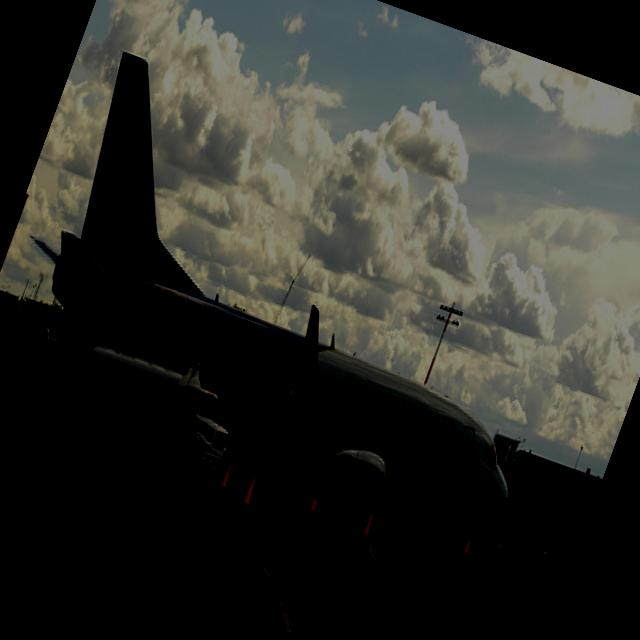Vehicle: (59, 325, 252, 493), (24, 320, 54, 346), (556, 533, 580, 562)
